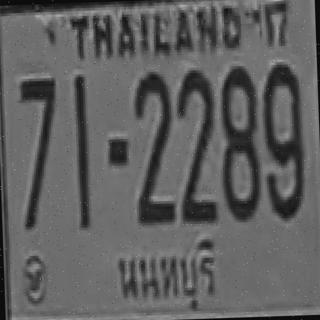N00: (260, 61, 301, 158)
N01: (72, 74, 88, 194)
N02: (174, 68, 216, 196), (132, 71, 174, 196), (132, 103, 174, 223), (176, 98, 216, 222)
N07: (18, 76, 56, 165)
N08: (217, 63, 260, 220)
N09: (260, 64, 304, 218), (261, 81, 303, 217)
P37: (109, 235, 221, 315)
